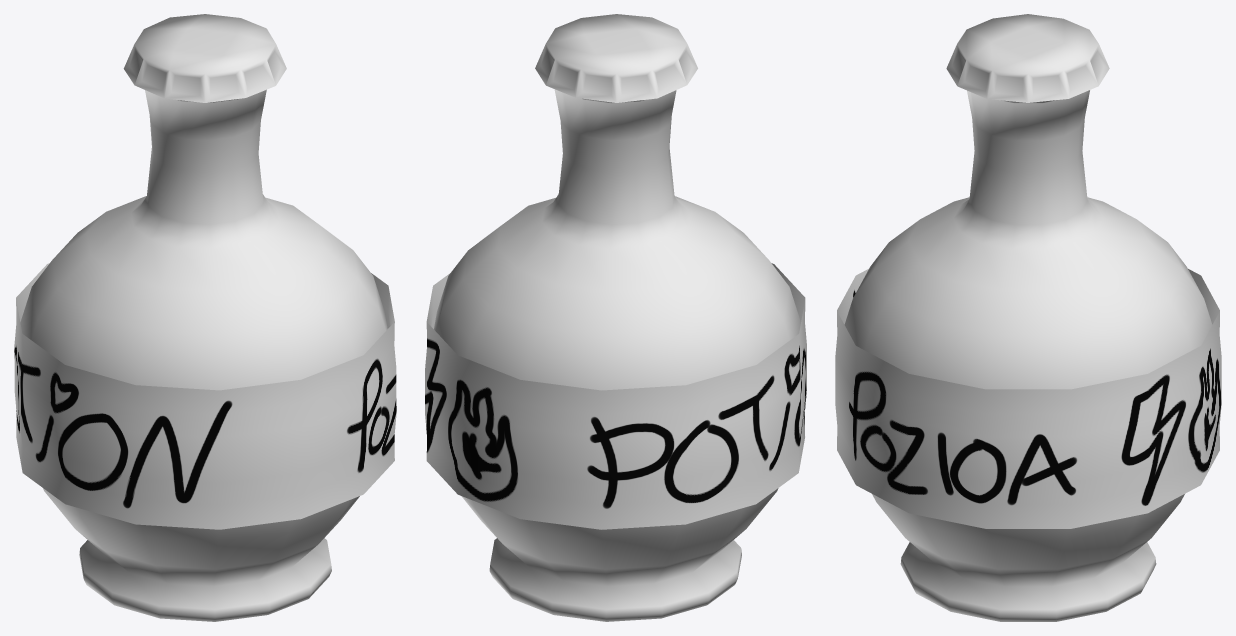
Rendered from PotiOverworld.glb.
The picture shows the model from 3 angles, left to right: view 1: azimuth 30°, elevation 25°; view 2: azimuth 150°, elevation 25°; view 3: azimuth 270°, elevation 25°; orthographic projection.
Visible parts, largest first — view 1: BottlePotion, BottleLabel, BottleCap; view 2: BottlePotion, BottleLabel, BottleCap; view 3: BottlePotion, BottleLabel, BottleCap.
Boxes of the visible parts, x1,y1,x2,y2 form: BottlePotion: (20, 89, 387, 621); BottleLabel: (14, 263, 396, 529); BottleCap: (123, 14, 286, 102); BottlePotion: (434, 89, 800, 621); BottleLabel: (425, 263, 806, 529); BottleCap: (535, 14, 697, 102); BottlePotion: (844, 90, 1212, 621); BottleLabel: (835, 269, 1221, 528); BottleCap: (946, 14, 1109, 102).
Bounding box in the file's own units: 0.1986 × 0.307 × 0.2037.
Materials: 2 (1 with a texture image).
